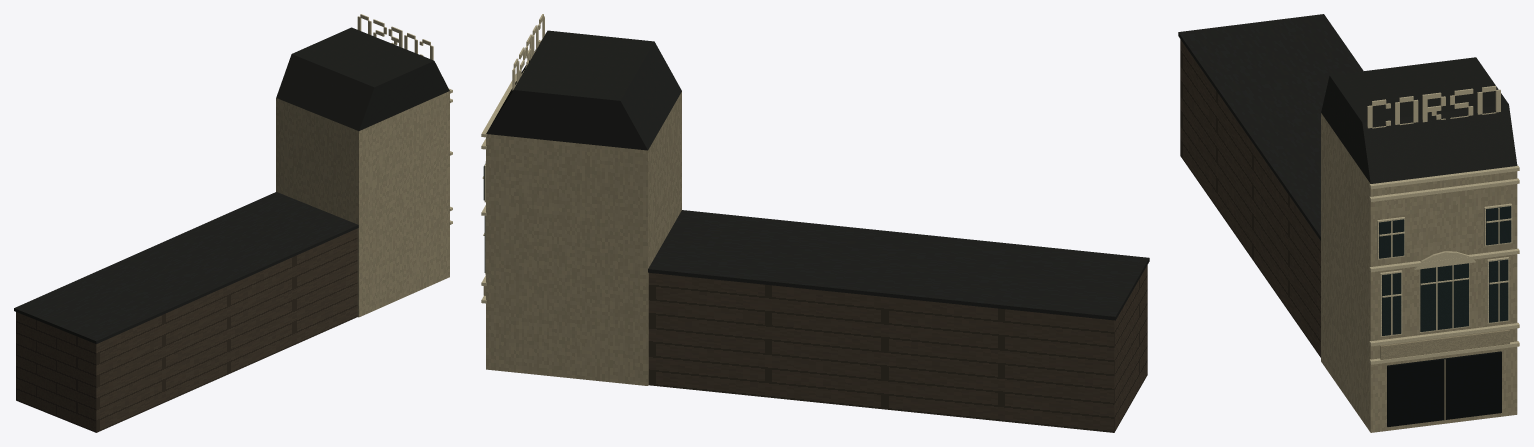
The picture shows the model from 3 angles, left to right: view 1: azimuth 30°, elevation 25°; view 2: azimuth 150°, elevation 25°; view 3: azimuth 270°, elevation 25°; orthographic projection. The views are drawn at different scales.
Visible parts, largest first — view 1: corso-coolsingel-2, corso-coolsingel-1, corso-coolsingel-0, corso-coolsingel-3; view 2: corso-coolsingel-1, corso-coolsingel-2, corso-coolsingel-0, corso-coolsingel-3; view 3: corso-coolsingel-2, corso-coolsingel-0, corso-coolsingel-1, corso-coolsingel-3, corso-coolsingel-4, corso-coolsingel-5.
Boxes of the visible parts, box(x1,y1,x2,y2) form: corso-coolsingel-2: box(14, 27, 449, 343); corso-coolsingel-1: box(16, 228, 357, 432); corso-coolsingel-0: box(276, 91, 449, 317); corso-coolsingel-3: box(357, 14, 452, 224); corso-coolsingel-1: box(648, 265, 1147, 432); corso-coolsingel-2: box(486, 30, 1149, 320); corso-coolsingel-0: box(483, 92, 681, 385); corso-coolsingel-3: box(481, 14, 544, 303); corso-coolsingel-2: box(1178, 14, 1517, 240); corso-coolsingel-0: box(1321, 113, 1517, 432); corso-coolsingel-1: box(1180, 39, 1320, 357); corso-coolsingel-3: box(1367, 85, 1519, 364); corso-coolsingel-4: box(1379, 206, 1511, 335); corso-coolsingel-5: box(1387, 351, 1501, 426).
Size of the model in its own units: 40 by 20.02 by 19.41.
Materials: 6 (6 with a texture image).
